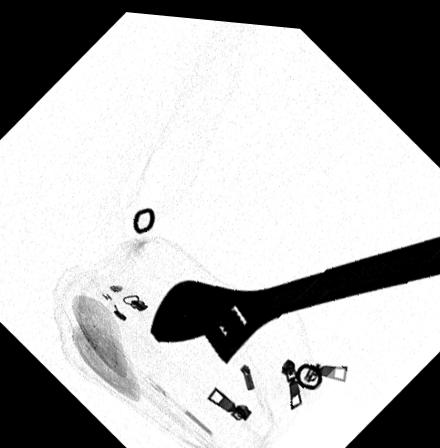Wrench: (148, 226, 440, 362)
